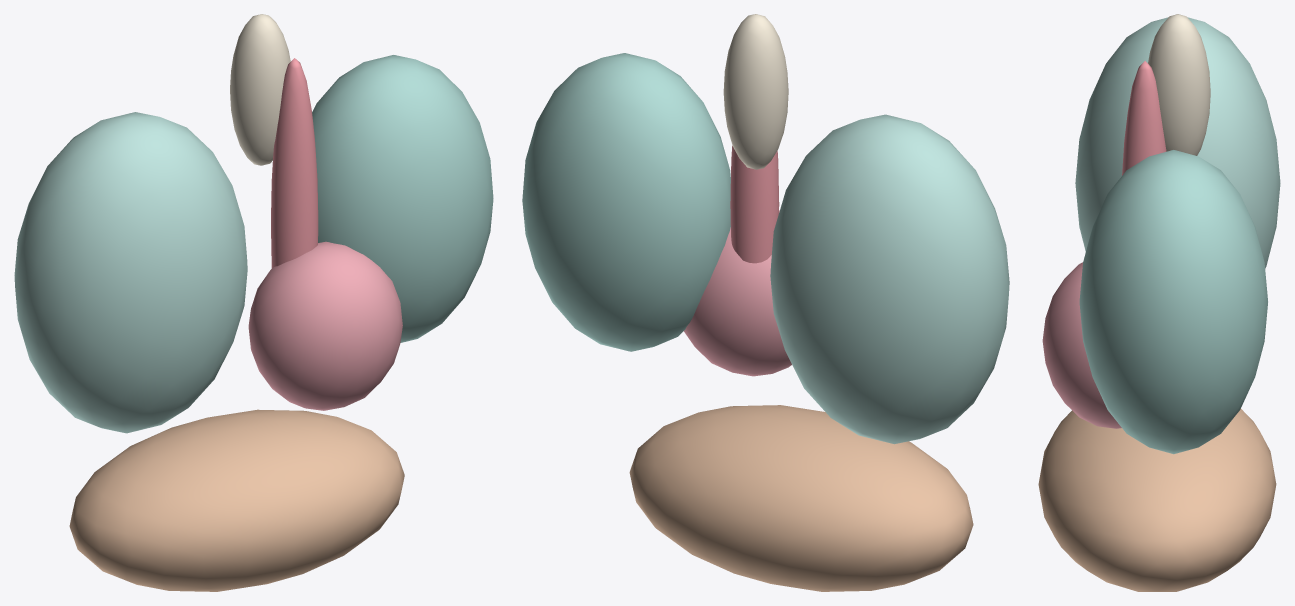
Rendered from generic-schematic.glb.
The picture shows the model from 3 angles, left to right: view 1: azimuth 30°, elevation 25°; view 2: azimuth 150°, elevation 25°; view 3: azimuth 270°, elevation 25°; orthographic projection. The views are drawn at different scales.
Parts seen in each view (by area): view 1: RightLung, Liver, LeftLung, Heart, Aorta, Trachea; view 2: RightLung, LeftLung, Liver, Heart, Trachea, Aorta; view 3: LeftLung, Liver, RightLung, Trachea, Heart, Aorta.
Part boxes in pixels (x1=…): RightLung: x1=14, y1=112, x2=247, y2=433; Liver: x1=69, y1=409, x2=404, y2=591; LeftLung: x1=312, y1=55, x2=493, y2=342; Heart: x1=248, y1=241, x2=402, y2=410; Aorta: x1=271, y1=58, x2=318, y2=268; Trachea: x1=230, y1=14, x2=290, y2=165; RightLung: x1=770, y1=114, x2=1009, y2=444; LeftLung: x1=522, y1=53, x2=730, y2=351; Liver: x1=629, y1=405, x2=973, y2=591; Heart: x1=684, y1=210, x2=791, y2=376; Trachea: x1=723, y1=14, x2=788, y2=169; Aorta: x1=730, y1=146, x2=779, y2=263; LeftLung: x1=1079, y1=150, x2=1267, y2=454; Liver: x1=1038, y1=408, x2=1276, y2=591; RightLung: x1=1075, y1=17, x2=1280, y2=268; Trachea: x1=1148, y1=14, x2=1210, y2=155; Heart: x1=1042, y1=262, x2=1121, y2=428; Aorta: x1=1122, y1=61, x2=1166, y2=175.
Size of the model in its own units: 2.66 by 3.02 by 1.18.
